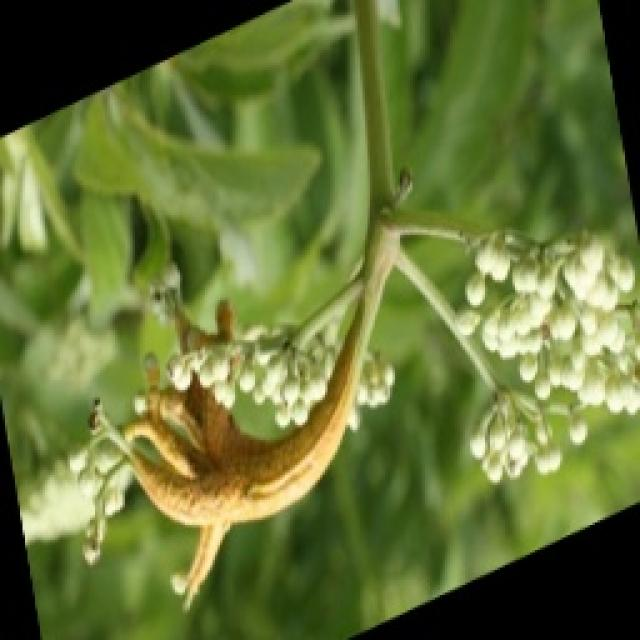Elderberry_rust: (78, 252, 398, 610)
